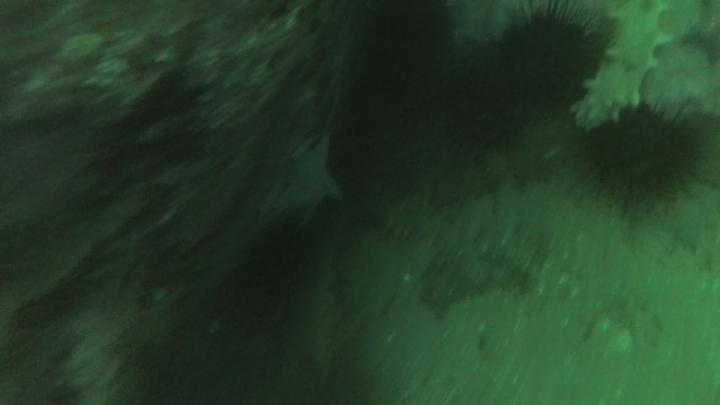echinus: (113, 290, 273, 403), (577, 101, 703, 214), (490, 6, 604, 113), (437, 60, 530, 155), (341, 1, 443, 82), (241, 215, 320, 308)
holothurian: (570, 1, 672, 132), (372, 189, 462, 246)
starfish: (280, 261, 346, 378), (276, 133, 346, 223), (658, 177, 719, 254)
